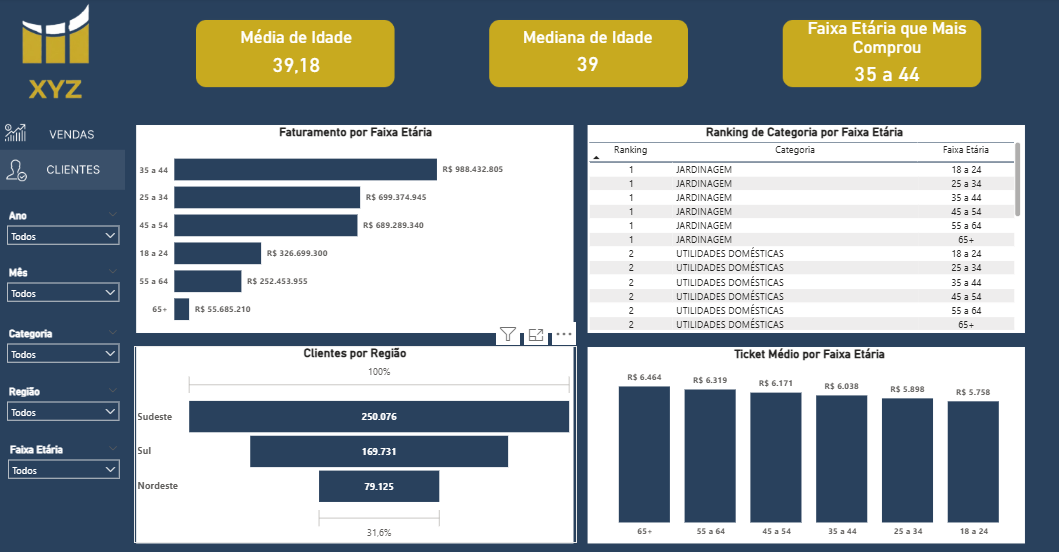

Layout of this report page (visuals, bound fields, positions):
{"tool":"powerbi","page":{"name":"Clientes","canvas":[1516,795],"ordinal":1},"visuals":[{"type":"card","title":"Média de Idade","fields":{"Values":["Medidas.Média Idade"]},"box":[281.6,42.3,285.8,74.1],"z":0},{"type":"card","title":"Mediana de Idade","fields":{"Values":["Medidas.Mediana Idades"]},"box":[740,43.3,201.7,71.7],"z":1000},{"type":"card","title":"Faixa Etária que Mais Comprou","fields":{"Values":["Medidas.Faixa Etária que Mais Vendeu"]},"box":[1108.3,30,316.7,100],"z":2000},{"type":"clusteredBarChart","title":"Faturamento por Faixa Etária","fields":{"Y":["Medidas.Total Vendas"],"Category":["Vendas.Faixa Etária"]},"box":[194.7,180.9,628.9,299.8],"z":3000},{"type":"slicer","fields":{"Values":["dcalendario.Ano"]},"box":[2.2,296.7,180,82.6],"z":4000},{"type":"slicer","fields":{"Values":["Produtos.CATEGORIA"]},"box":[2.2,464,180,82.6],"z":5000},{"type":"slicer","fields":{"Values":["dcalendario.Nome do Mês"]},"box":[2.2,377.2,180,82.6],"z":6000},{"type":"slicer","fields":{"Values":["Vendas.Região"]},"box":[2.2,546.6,180,82.6],"z":7000},{"type":"tableEx","title":"Ranking de Categoria por Faixa Etária","fields":{"Values":["Medidas.Ranking Categoria por Faixa","Produtos.CATEGORIA","Vendas.Faixa Etária"]},"box":[836,180.9,625.9,297.4],"z":8000},{"type":"slicer","fields":{"Values":["Vendas.Faixa Etária"]},"box":[4.3,629.4,178.8,83.2],"z":9000},{"type":"funnel","title":"Clientes por Região","fields":{"Category":["Vendas.Região"],"Y":["CountNonNull(Vendas.Faixa Etária)"]},"box":[194.3,495.7,630,281.4],"z":10000},{"type":"clusteredColumnChart","title":"Ticket Médio por Faixa Etária","fields":{"Category":["Vendas.Faixa Etária"],"Y":["Medidas.Ticket Médio"]},"box":[841.4,497.1,628.6,280],"z":11000},{"type":"actionButton","box":[0,160,178.6,61.4],"z":12000}]}

Visuals, with their boxes in screenshot pixels (x1, y1, x2, y2), scaled from the page's 1516x795 canvas onto the 1059x552 screenshot:
"Média de Idade" card: {"x1": 197, "y1": 29, "x2": 396, "y2": 81}
"Mediana de Idade" card: {"x1": 517, "y1": 30, "x2": 658, "y2": 80}
"Faixa Etária que Mais Comprou" card: {"x1": 774, "y1": 21, "x2": 995, "y2": 90}
"Faturamento por Faixa Etária" clusteredBarChart: {"x1": 136, "y1": 126, "x2": 575, "y2": 334}
slicer - dcalendario.Ano: {"x1": 2, "y1": 206, "x2": 127, "y2": 263}
slicer - Produtos.CATEGORIA: {"x1": 2, "y1": 322, "x2": 127, "y2": 380}
slicer - dcalendario.Nome do Mês: {"x1": 2, "y1": 262, "x2": 127, "y2": 319}
slicer - Vendas.Região: {"x1": 2, "y1": 380, "x2": 127, "y2": 437}
"Ranking de Categoria por Faixa Etária" tableEx: {"x1": 584, "y1": 126, "x2": 1021, "y2": 332}
slicer - Vendas.Faixa Etária: {"x1": 3, "y1": 437, "x2": 128, "y2": 495}
"Clientes por Região" funnel: {"x1": 136, "y1": 344, "x2": 576, "y2": 540}
"Ticket Médio por Faixa Etária" clusteredColumnChart: {"x1": 588, "y1": 345, "x2": 1027, "y2": 540}
actionButton: {"x1": 0, "y1": 111, "x2": 125, "y2": 154}
